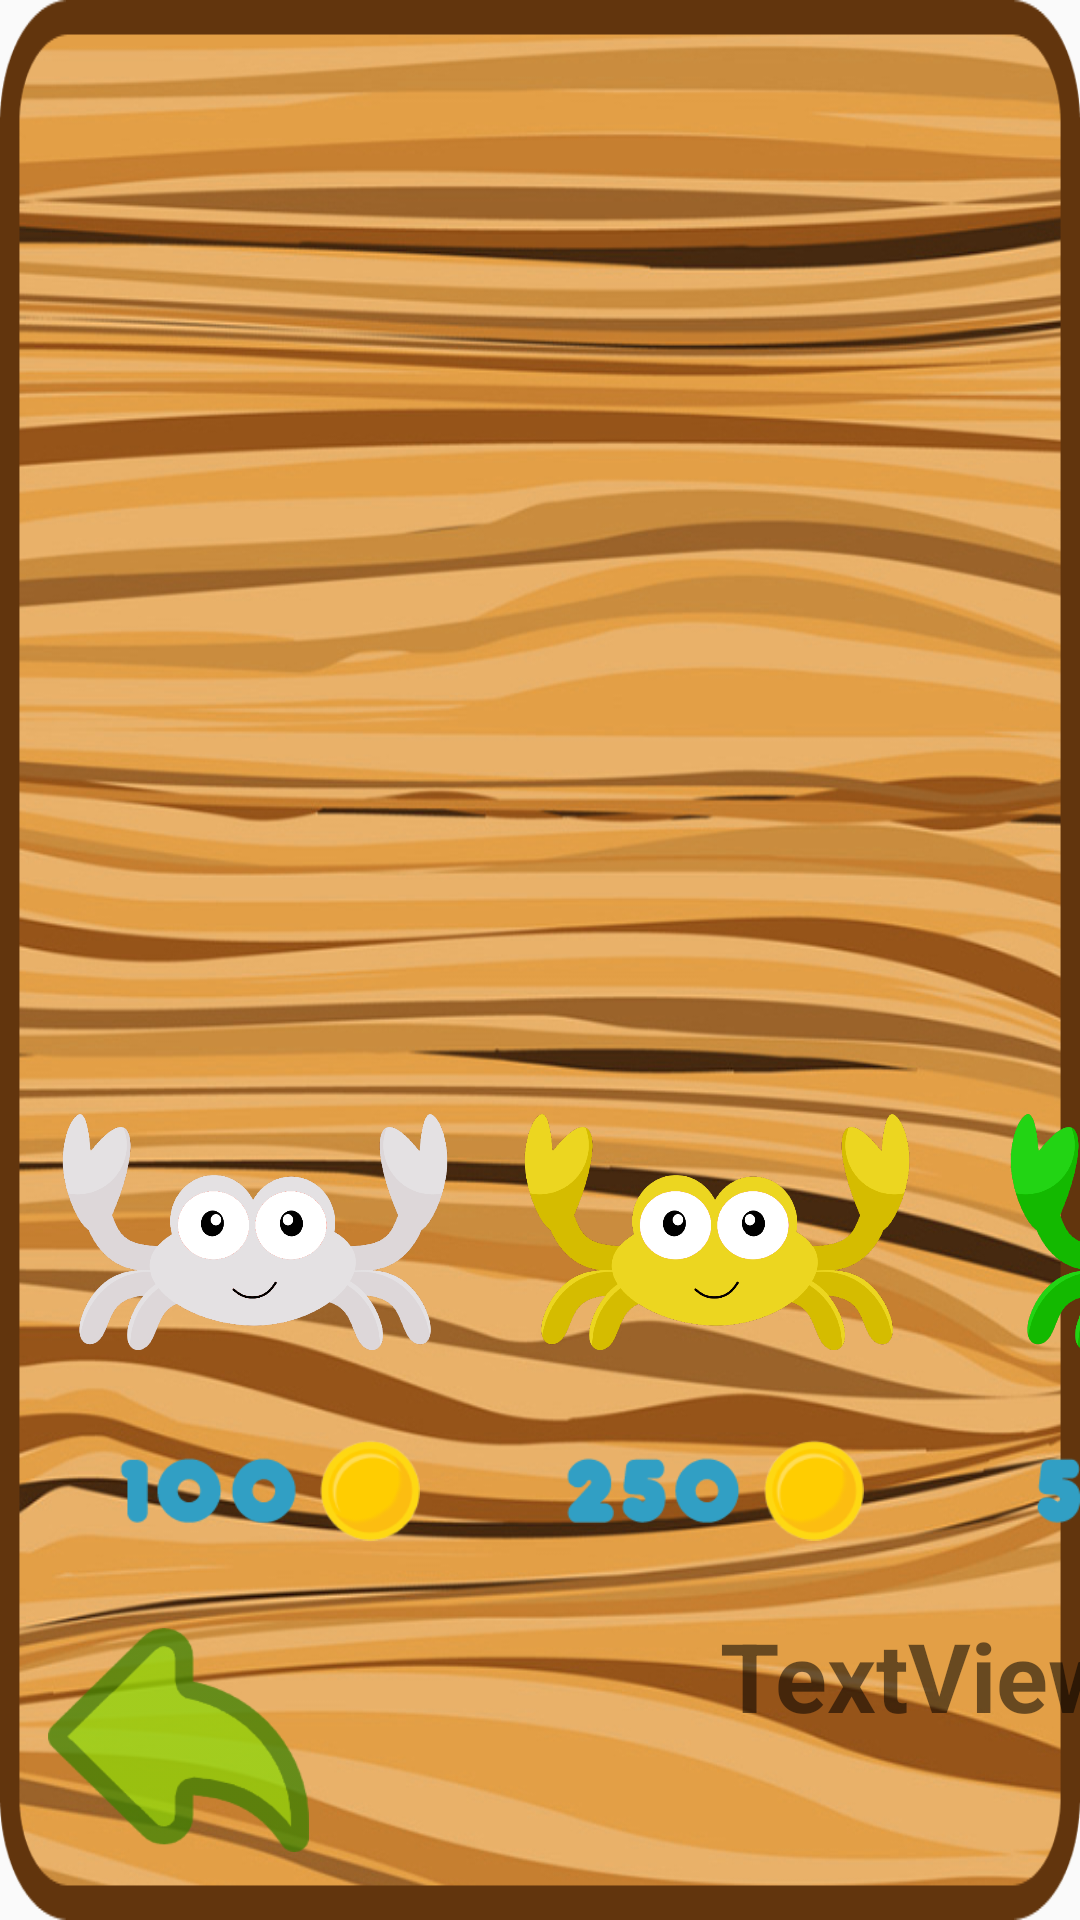

Icon click points for this 1080w x 1920h phone screenshot, format (x=x, y=y):
back: (x=178, y=1740)
